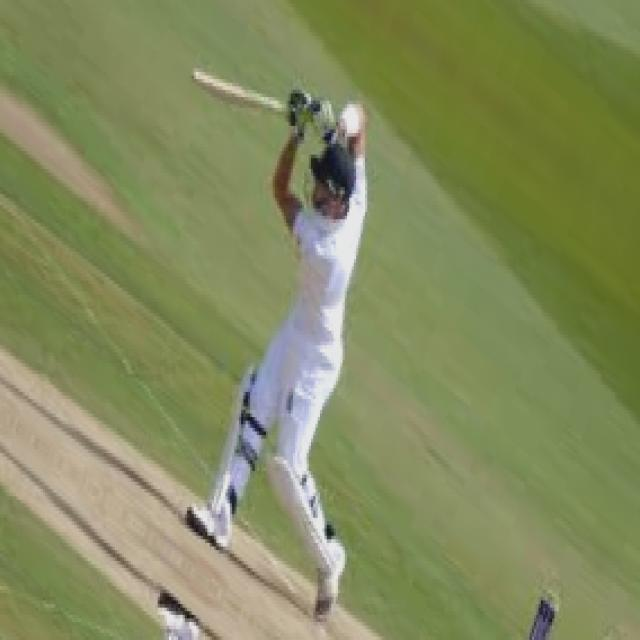toe: (188, 64, 222, 94)
